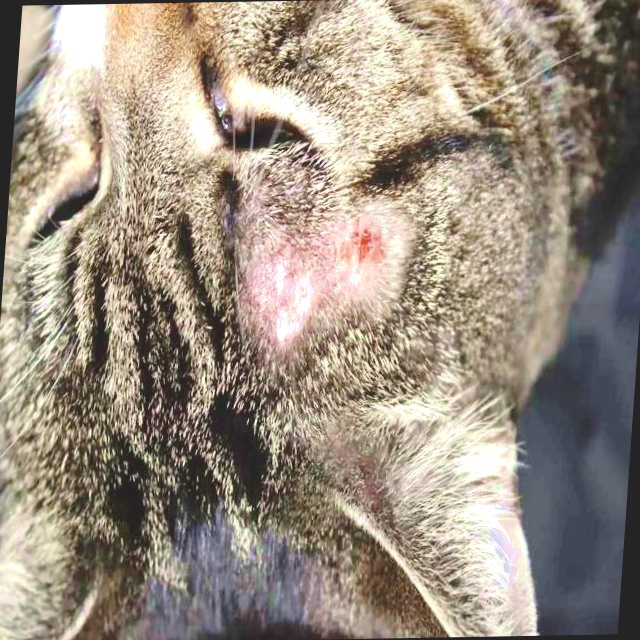ringworm: (251, 221, 410, 331)
